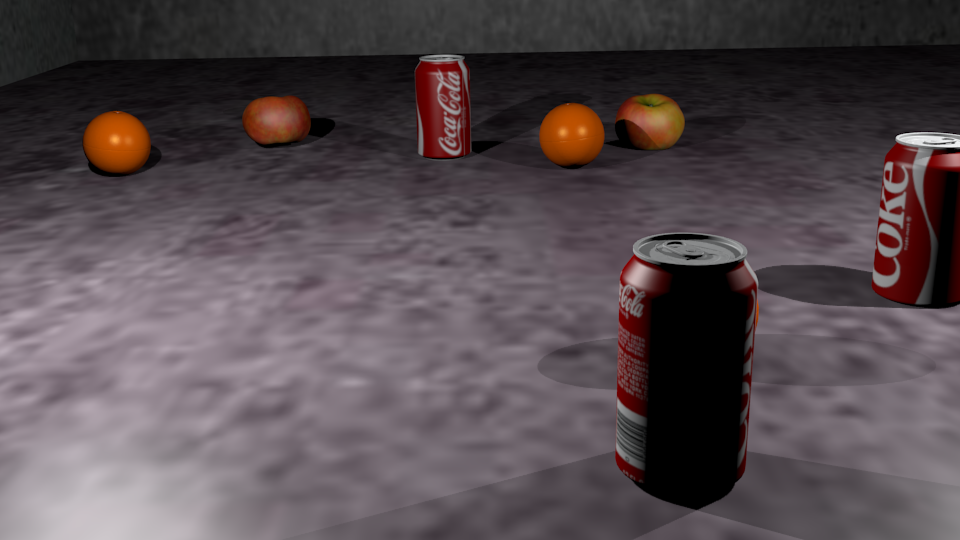apple: (536, 53, 662, 169), (616, 95, 685, 149), (441, 157, 511, 206), (244, 96, 310, 143), (611, 128, 669, 168)
banana: (1, 172, 300, 349), (84, 1, 196, 200), (610, 214, 806, 281), (832, 374, 960, 412), (1, 368, 13, 453)
cola_can: (616, 233, 759, 479), (872, 133, 960, 303), (416, 55, 471, 161)
orange: (811, 252, 935, 348), (641, 253, 759, 349), (84, 112, 150, 171), (540, 104, 605, 163), (668, 72, 727, 121)
